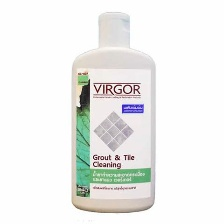cleaning_solution: (67, 9, 158, 215)
